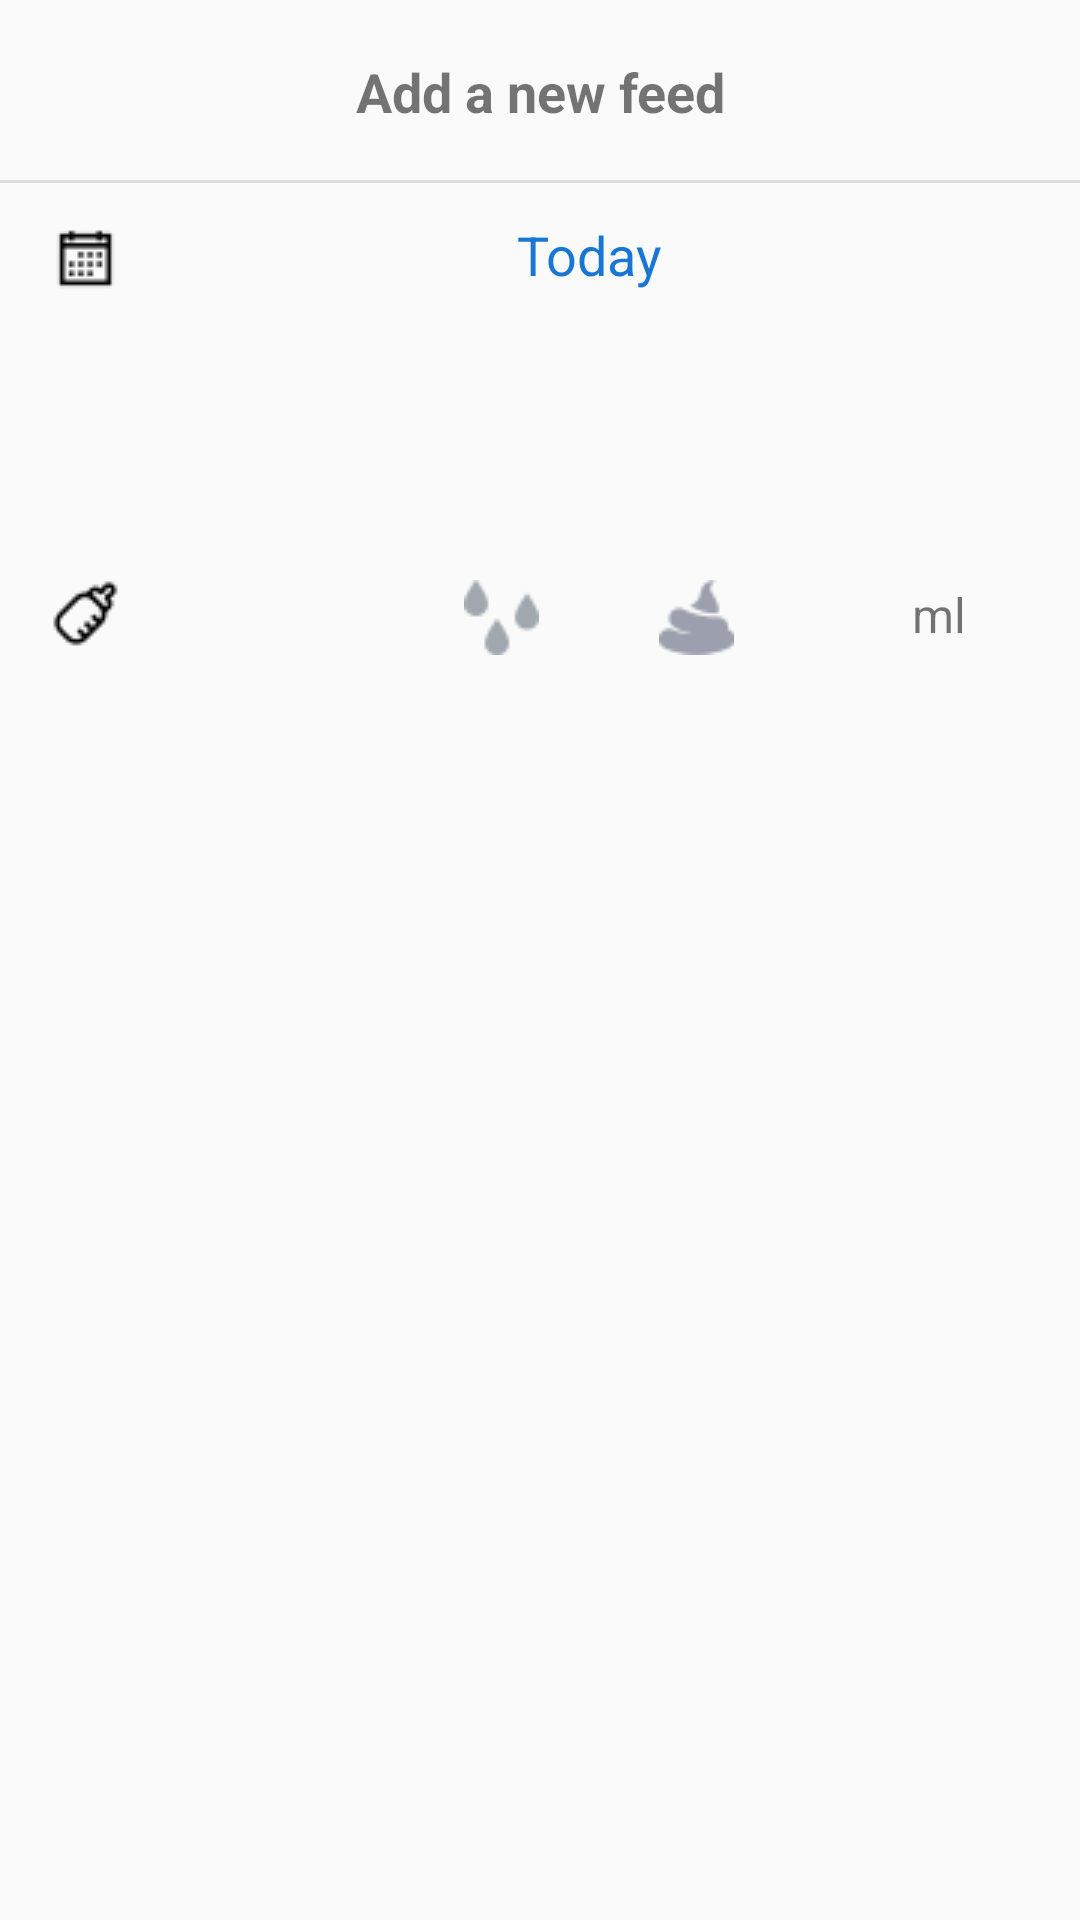

Named icons in this screenshot (1080x1920) and their centers, [x,y]:
calendar: [85,258]
feed: [85,613]
soiled nappy: [696,617]
wet nappy: [501,617]
